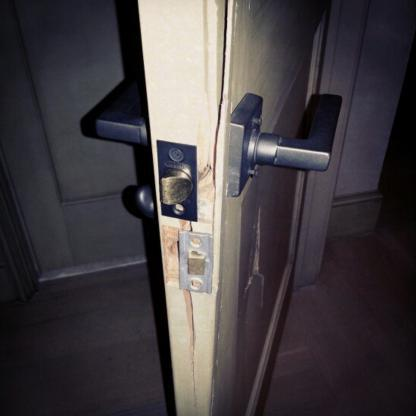door: (147, 0, 290, 409)
lever: (255, 76, 345, 192), (74, 75, 153, 154)
